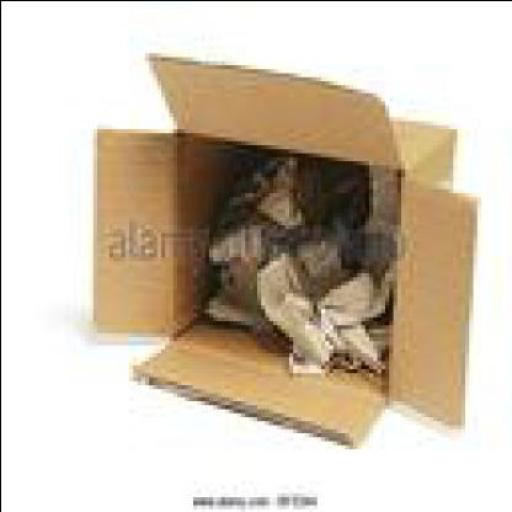cardboard: (92, 48, 472, 439)
metal: (200, 199, 300, 320), (260, 252, 336, 376), (312, 264, 388, 372), (232, 148, 316, 232), (332, 156, 396, 252), (292, 208, 364, 265)
